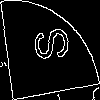S: (25, 25, 71, 65)
